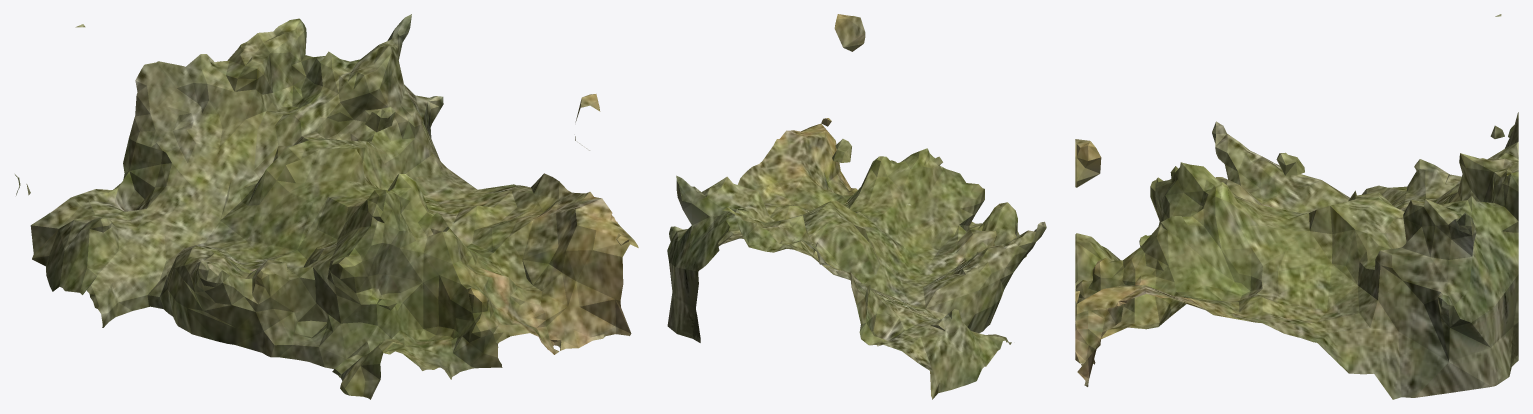
The picture shows the model from 3 angles, left to right: view 1: azimuth 30°, elevation 25°; view 2: azimuth 150°, elevation 25°; view 3: azimuth 270°, elevation 25°; orthographic projection. The views are drawn at different scales.
Bounding box in the file's own units: 5.9 × 3.48 × 5.9.
3 materials, 3 textured.
